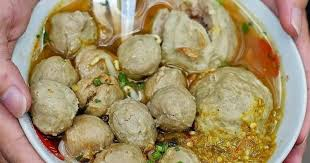bakso: (24, 7, 279, 159)
